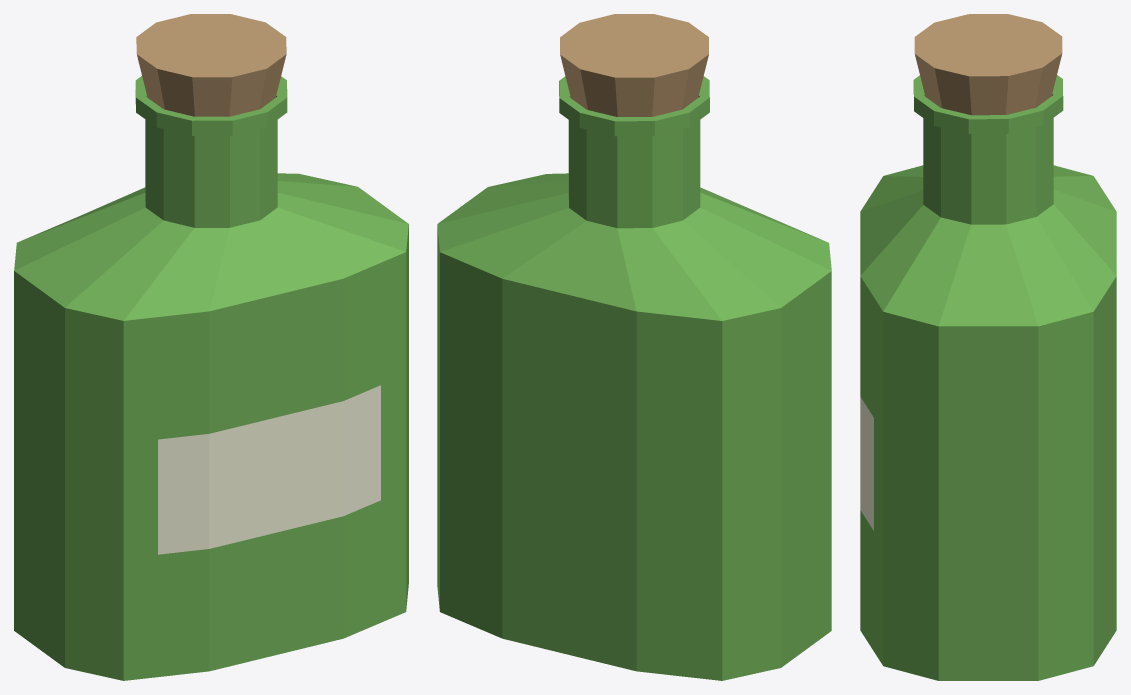
File: potion_green_1.fbx
The picture shows the model from 3 angles, left to right: view 1: azimuth 30°, elevation 25°; view 2: azimuth 150°, elevation 25°; view 3: azimuth 270°, elevation 25°; orthographic projection.
Parts seen in each view (by area): view 1: potion_green_1; view 2: potion_green_1; view 3: potion_green_1.
Boxes of the visible parts, box(x1,y1,x2,y2) form: potion_green_1: box(14, 14, 408, 680); potion_green_1: box(437, 14, 831, 680); potion_green_1: box(860, 14, 1116, 680).
Bounding box in the file's own units: 33.79 × 52.72 × 22.13.
